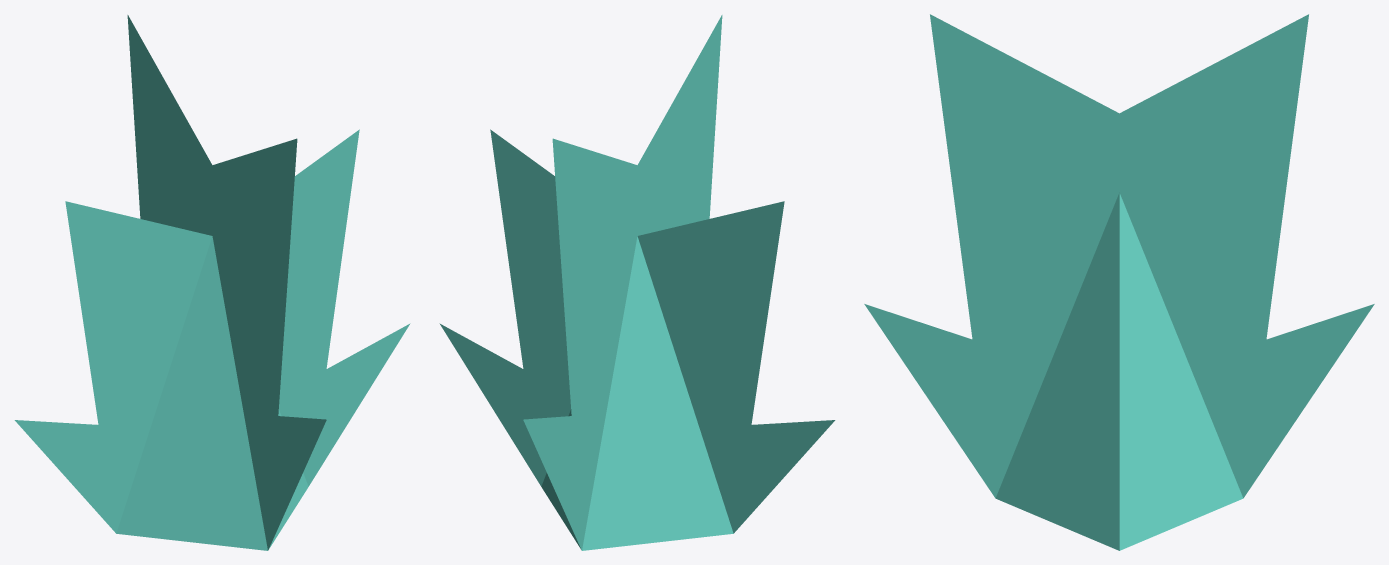
The model's file is reed-2.glb.
The picture shows the model from 3 angles, left to right: view 1: azimuth 30°, elevation 25°; view 2: azimuth 150°, elevation 25°; view 3: azimuth 270°, elevation 25°; orthographic projection. The views are drawn at different scales.
Parts seen in each view (by area): view 1: plant_flatTall; view 2: plant_flatTall; view 3: plant_flatTall.
Part boxes in pixels (left/top/right/bottom): plant_flatTall: left=14, top=15, right=410, bottom=550; plant_flatTall: left=439, top=15, right=835, bottom=550; plant_flatTall: left=864, top=14, right=1374, bottom=550.
Size of the model in its own units: 1.05 by 1.1 by 1.05.
